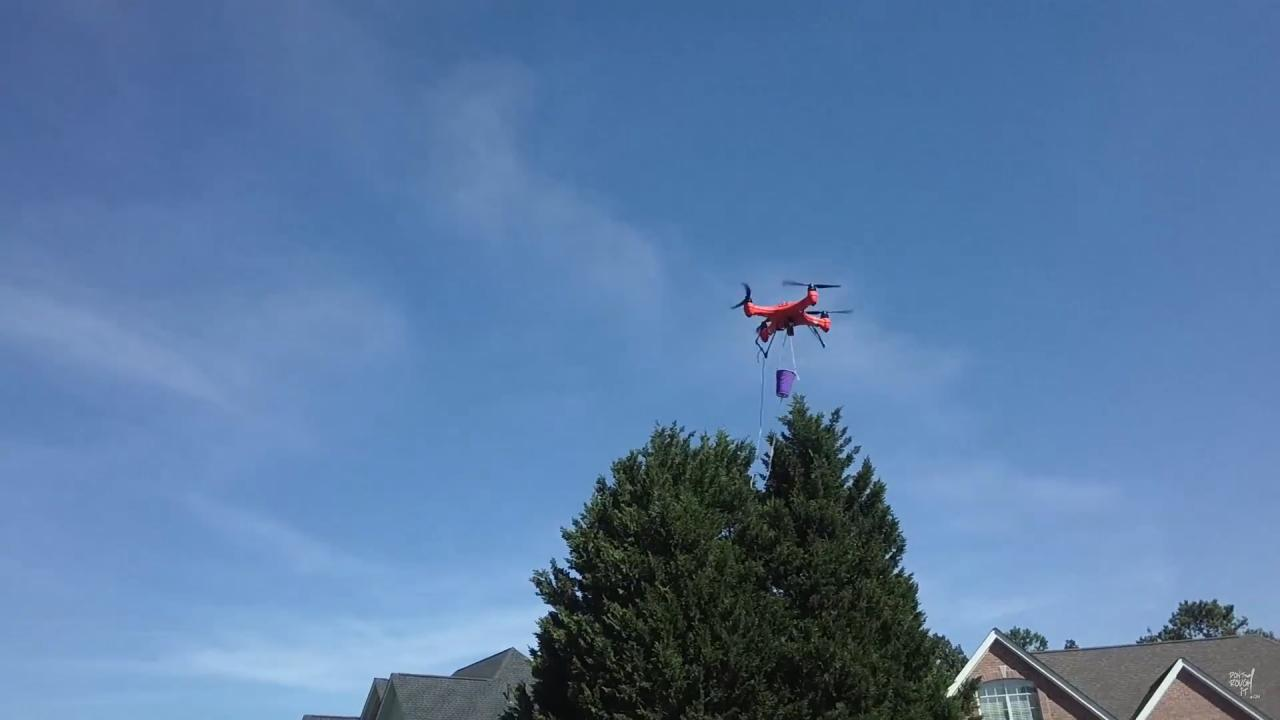Drone: (714, 262, 866, 368)
